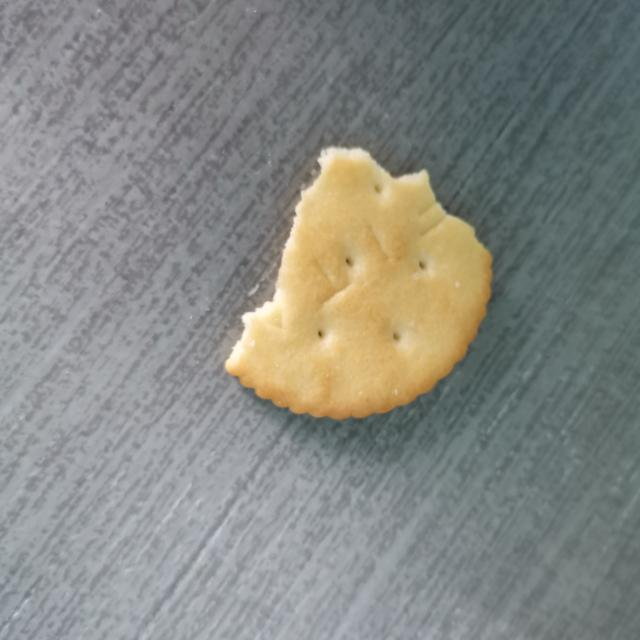Broken: (223, 144, 493, 420)
